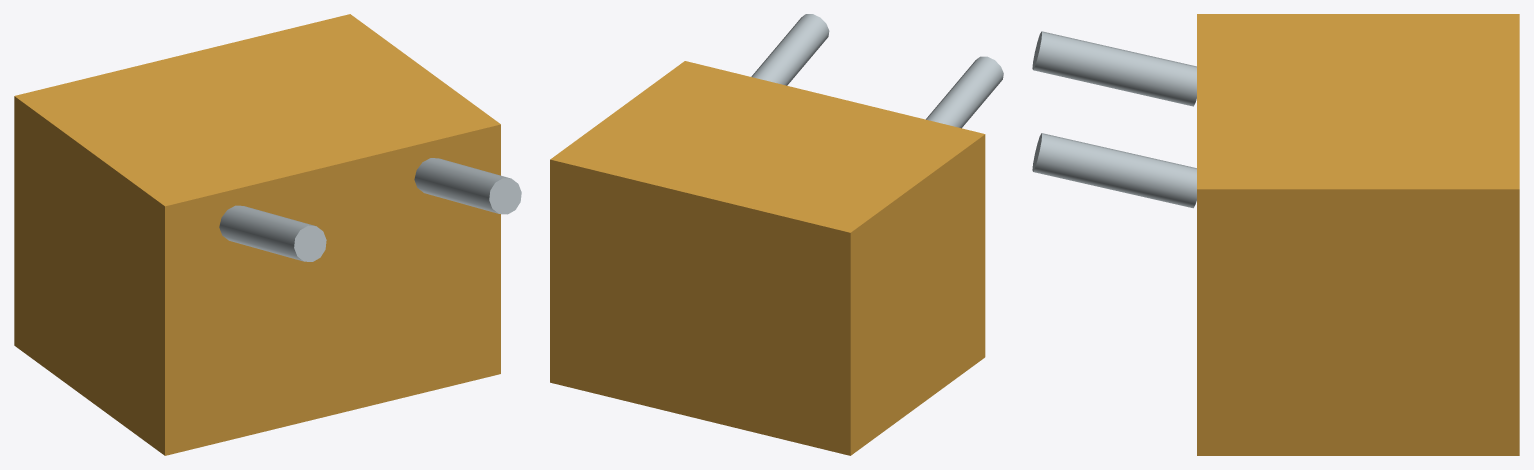
File: perseverance_science.cutaway.moxie.glb
3 views of the same model, side by side, from view 1: azimuth 30°, elevation 25°; view 2: azimuth 150°, elevation 25°; view 3: azimuth 270°, elevation 25° (orthographic). The views are drawn at different scales.
Parts seen in each view (by area): view 1: perseverance_science.cutaway.moxie.mesh_Gold_thermal_insulat, perseverance_science.cutaway.moxie.mesh_Satin_aluminum; view 2: perseverance_science.cutaway.moxie.mesh_Gold_thermal_insulat, perseverance_science.cutaway.moxie.mesh_Satin_aluminum; view 3: perseverance_science.cutaway.moxie.mesh_Gold_thermal_insulat, perseverance_science.cutaway.moxie.mesh_Satin_aluminum.
Boxes of the visible parts, left/top/right/bottom form: perseverance_science.cutaway.moxie.mesh_Gold_thermal_insulat: left=14, top=14, right=500, bottom=455; perseverance_science.cutaway.moxie.mesh_Satin_aluminum: left=219, top=158, right=521, bottom=261; perseverance_science.cutaway.moxie.mesh_Gold_thermal_insulat: left=550, top=61, right=985, bottom=455; perseverance_science.cutaway.moxie.mesh_Satin_aluminum: left=751, top=14, right=1003, bottom=128; perseverance_science.cutaway.moxie.mesh_Gold_thermal_insulat: left=1197, top=14, right=1519, bottom=455; perseverance_science.cutaway.moxie.mesh_Satin_aluminum: left=1032, top=31, right=1196, bottom=208.
Size of the model in its own units: 0.31 by 0.2346 by 0.3641.
